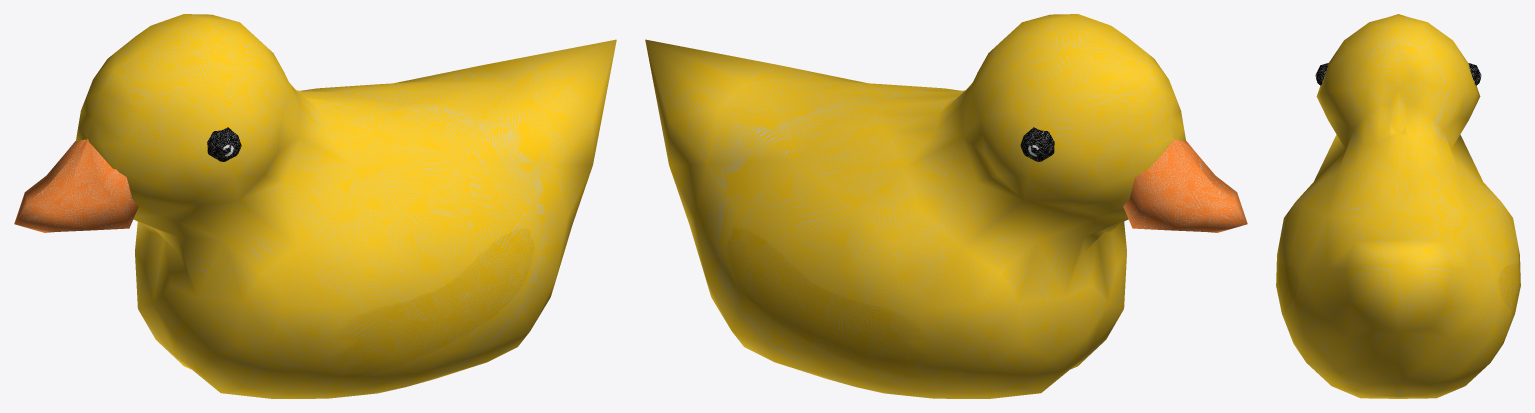
The model's file is PatoInteiro.dae.
The picture shows the model from 3 angles, left to right: view 1: azimuth 30°, elevation 25°; view 2: azimuth 150°, elevation 25°; view 3: azimuth 270°, elevation 25°; orthographic projection. The views are drawn at different scales.
Parts seen in each view (by area): view 1: SketchUp (×3); view 2: SketchUp (×3); view 3: SketchUp.
Part boxes in pixels (x1,y1,x2,y2): SketchUp (×3): (14,14,616,398); SketchUp (×3): (645,14,1247,398); SketchUp: (1276,14,1520,398).
Bounding box in the file's own units: 113 × 54.16 × 69.55.
